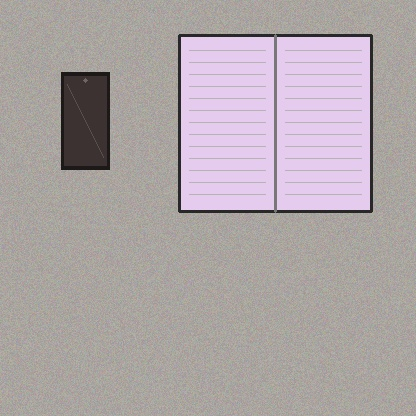book: (179, 35, 371, 211)
cell_phone: (61, 72, 109, 169)
